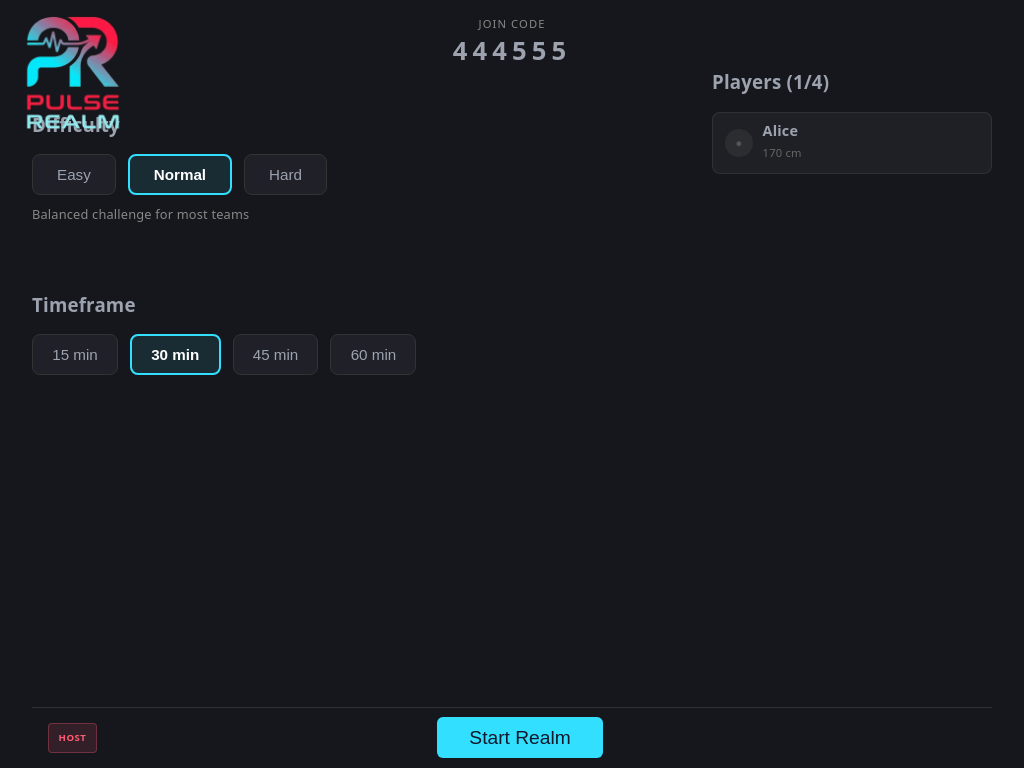
Scenario: DungeonLobby › difficulty selection › can select Hard difficulty
Click the button "Hard" at (286, 174), box x1=244 y1=154 x2=327 y2=195
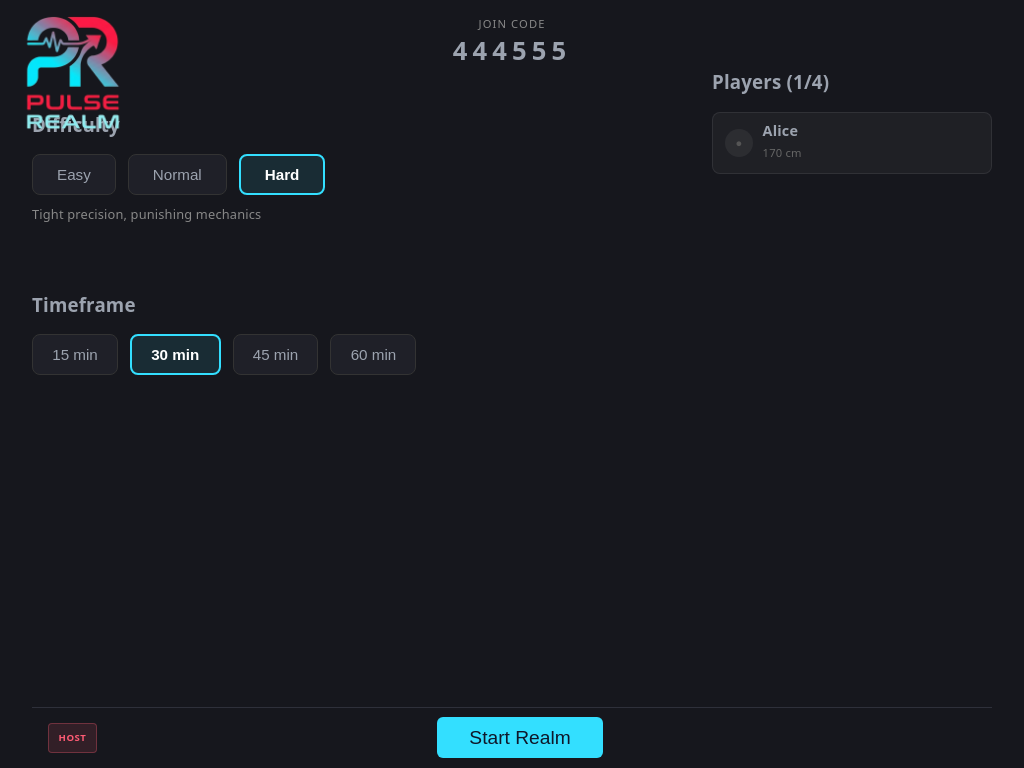
Expected: the text "Tight precision, punishing mechanics" is shown, x1=32 y1=205 x2=261 y2=223
